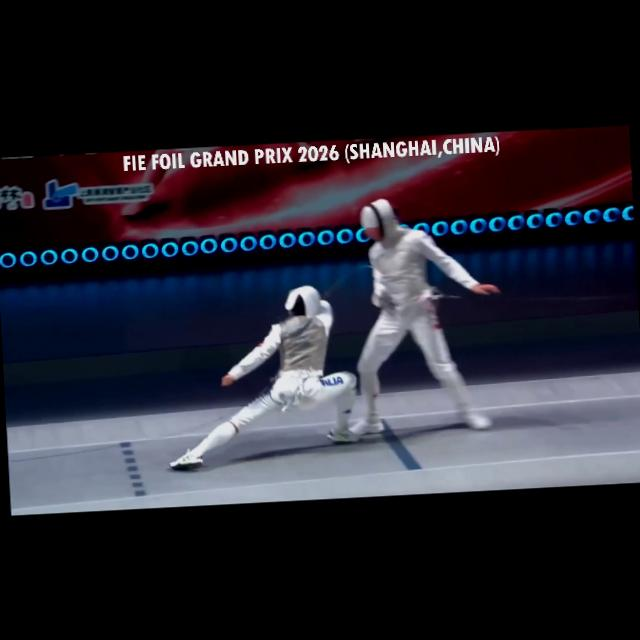blade: (316, 260, 388, 312)
